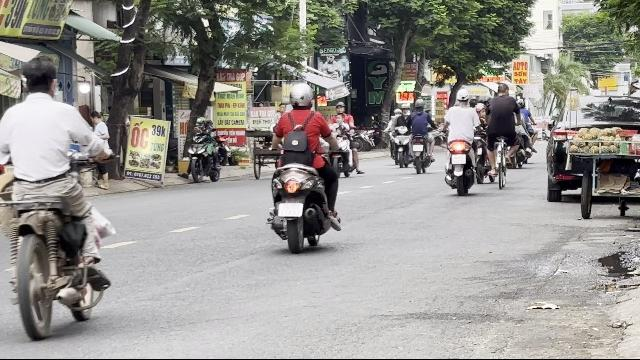helmet: (289, 82, 315, 109)
licenseplate: (279, 203, 303, 217)
motorcyclist: (0, 56, 116, 338), (264, 82, 342, 252)
nohelmet: (18, 57, 58, 99)
